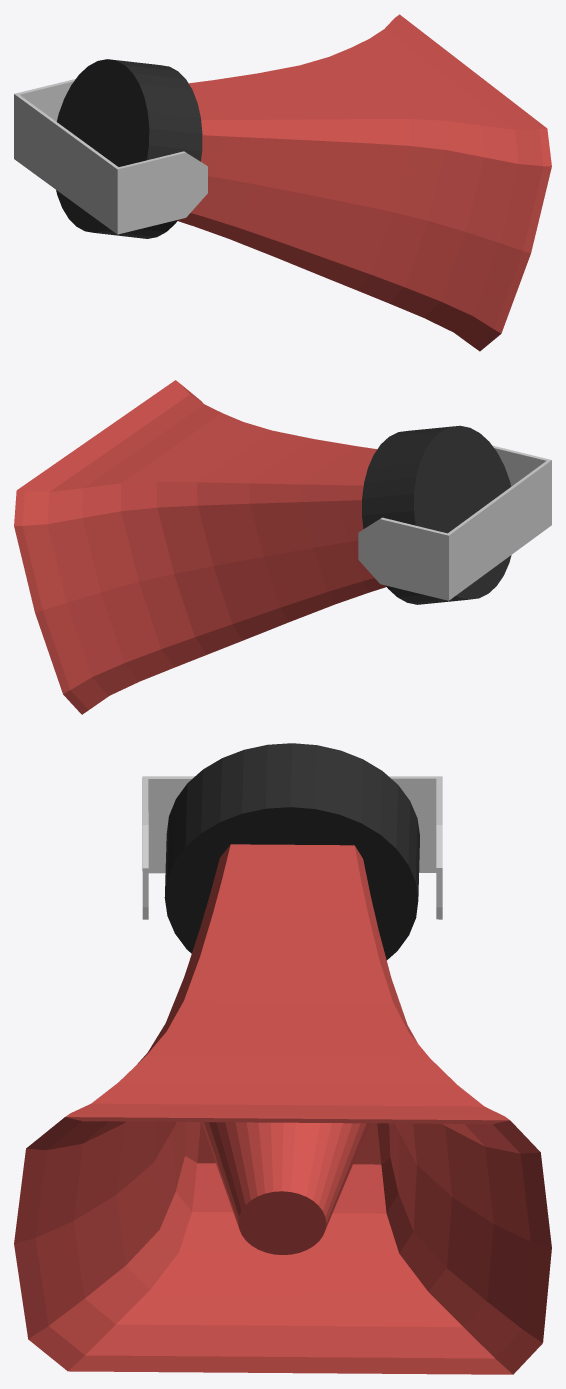
File: alert-horn.fbx
The picture shows the model from 3 angles, top to bottom: view 1: azimuth 30°, elevation 25°; view 2: azimuth 150°, elevation 25°; view 3: azimuth 270°, elevation 25°; orthographic projection. The views are drawn at different scales.
Parts seen in each view (by area): view 1: Plane; view 2: Plane; view 3: Plane.
Part boxes in pixels (box(x1,y1,x2,y2)): Plane: box(14, 14, 551, 351); Plane: box(14, 380, 551, 714); Plane: box(14, 743, 551, 1374).
Bounding box in the file's own units: 251 × 174 × 197.
